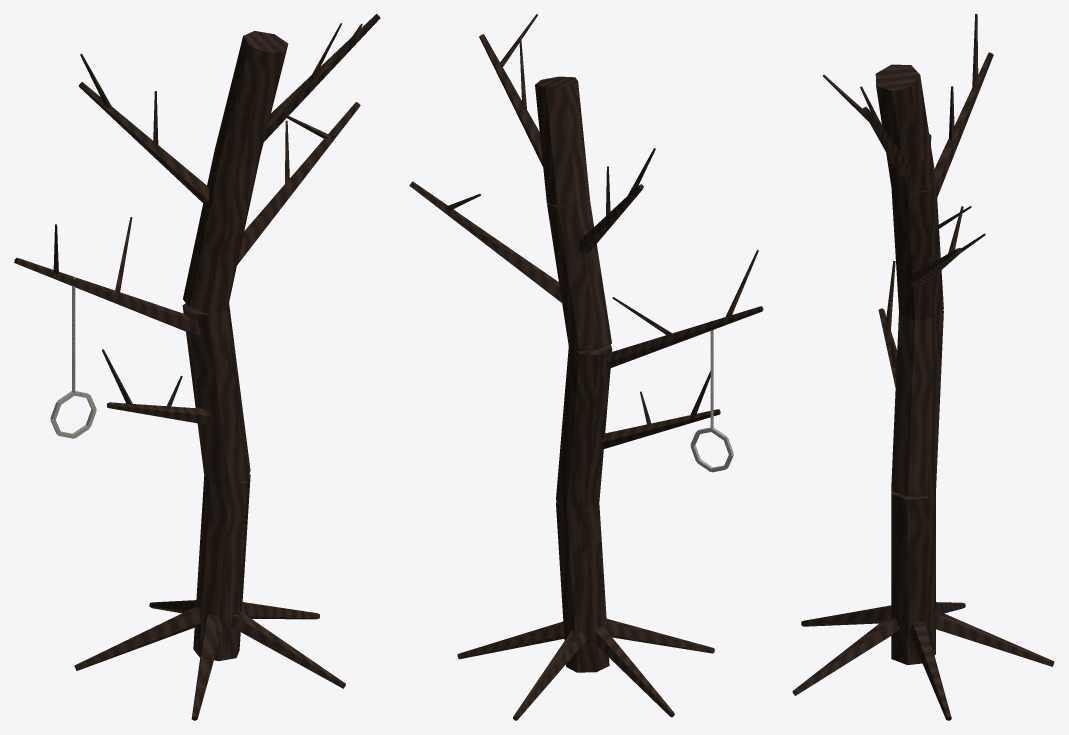
The model's file is dead_tree.glb.
The picture shows the model from 3 angles, left to right: view 1: azimuth 30°, elevation 25°; view 2: azimuth 150°, elevation 25°; view 3: azimuth 270°, elevation 25°; orthographic projection. The views are drawn at different scales.
Parts seen in each view (by area): view 1: dead_tree; view 2: dead_tree; view 3: dead_tree.
Boxes of the visible parts, x1,y1,x2,y2 form: dead_tree: [14, 14, 380, 720]; dead_tree: [409, 14, 763, 720]; dead_tree: [792, 14, 1054, 720].
Size of what is drawn, in the model's own units: 2.62 by 4.49 by 1.67.
2 materials, 2 textured.
